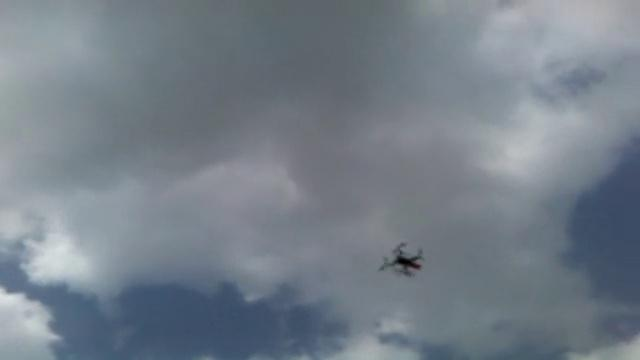drone: (376, 242, 426, 277)
